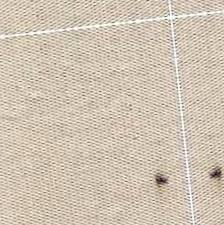stain: (151, 168, 173, 190), (206, 162, 224, 185)
